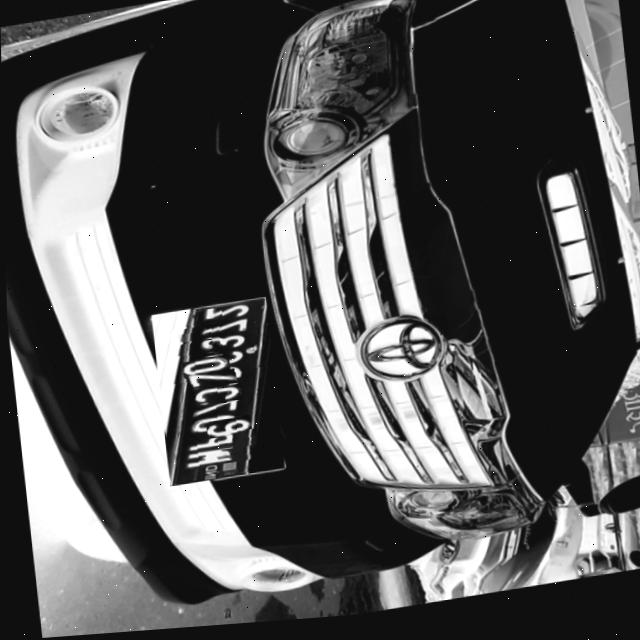0: (178, 357, 227, 379)
2: (218, 461, 264, 480)
3: (207, 432, 253, 453)
6: (202, 418, 247, 440)
7: (185, 372, 233, 393), (212, 447, 259, 466)
B: (193, 403, 243, 424)
C: (190, 387, 238, 408)
IND: (180, 311, 220, 330)
Indian_registered: (167, 302, 264, 488)
M: (166, 327, 218, 349)
P: (170, 341, 220, 362)
